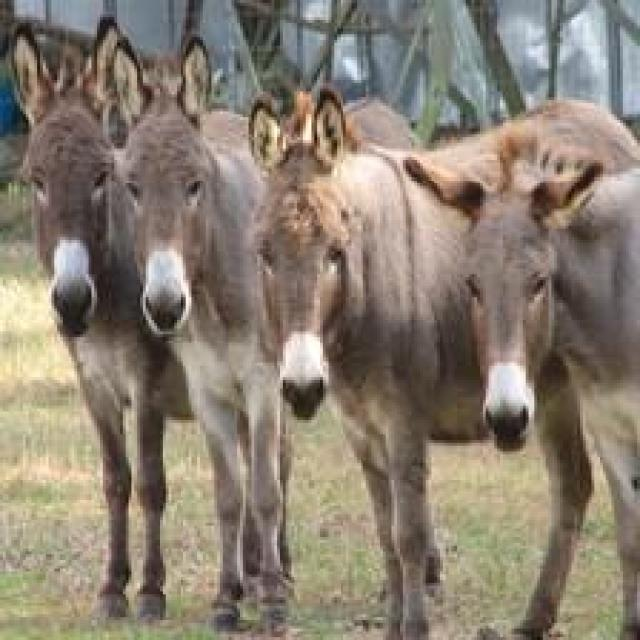Donkey: (9, 14, 417, 632), (403, 97, 637, 637), (108, 32, 292, 637), (8, 11, 188, 626)
